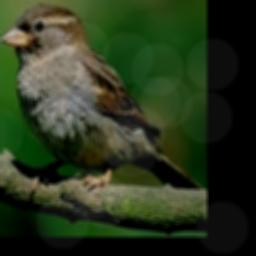Sparrow: (0, 4, 203, 195)
